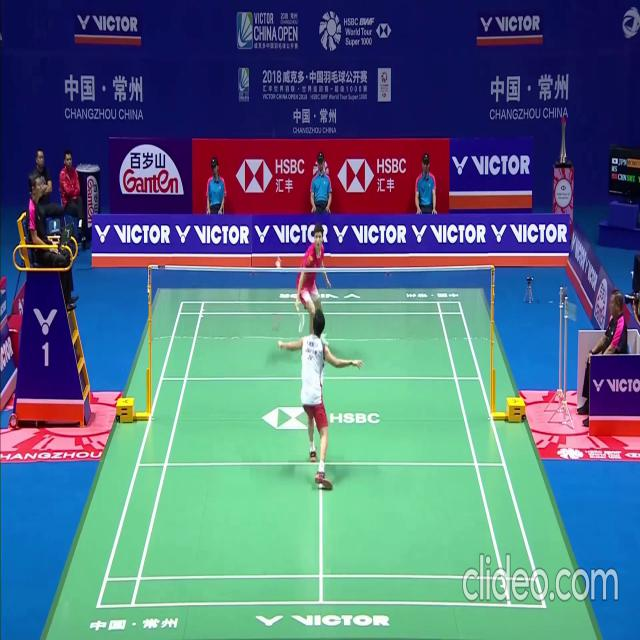Shuttlecock: (276, 256, 281, 263)
